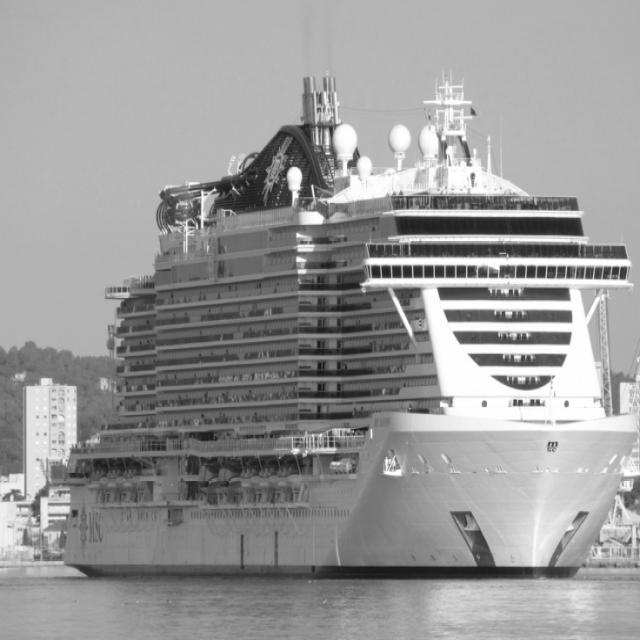cruises: (61, 71, 640, 586)
